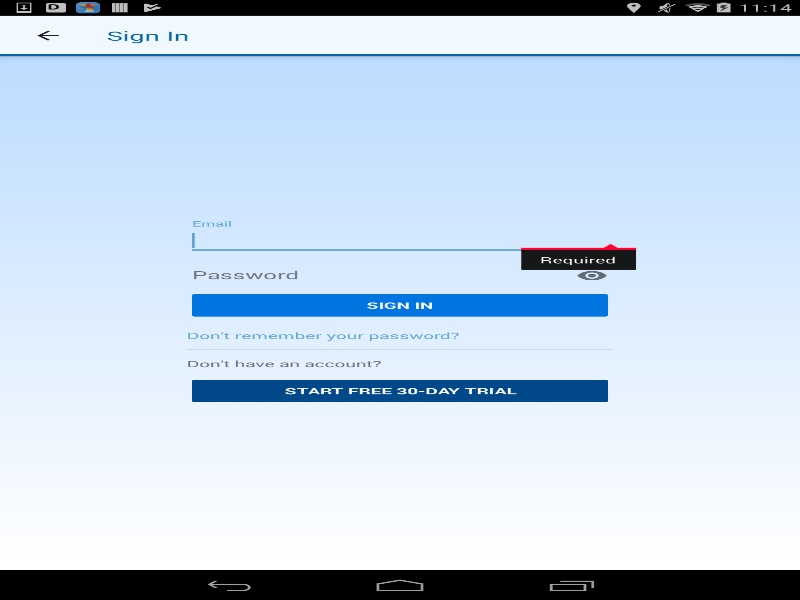Button: (186, 290, 613, 320), (186, 375, 613, 405), (10, 15, 85, 55), (570, 261, 613, 290)
Input: (186, 226, 613, 255), (186, 261, 613, 290)
